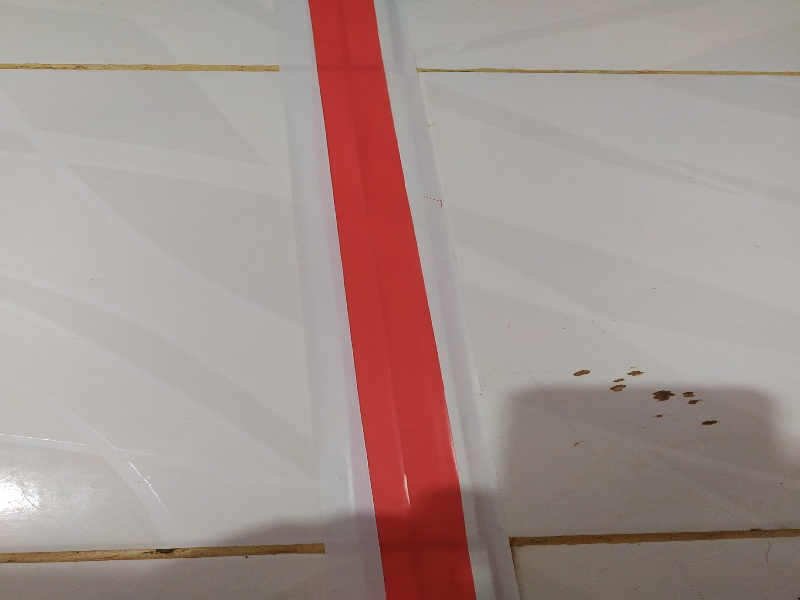reta: (269, 8, 537, 600)
